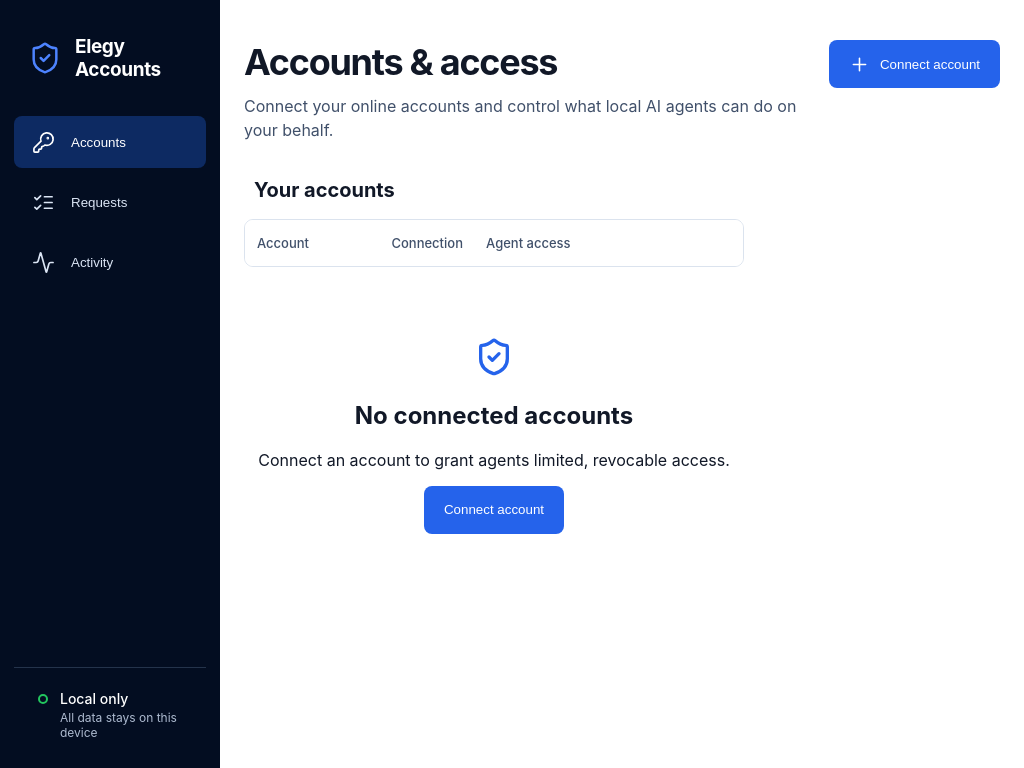
Test case: Account Center › renders an arbitrary provider supplied by the broker registry
Step 1. Click the button "Connect account" in the row of "Accounts & access" → (914,64), box top-left (829, 40), bottom-right (1000, 88)
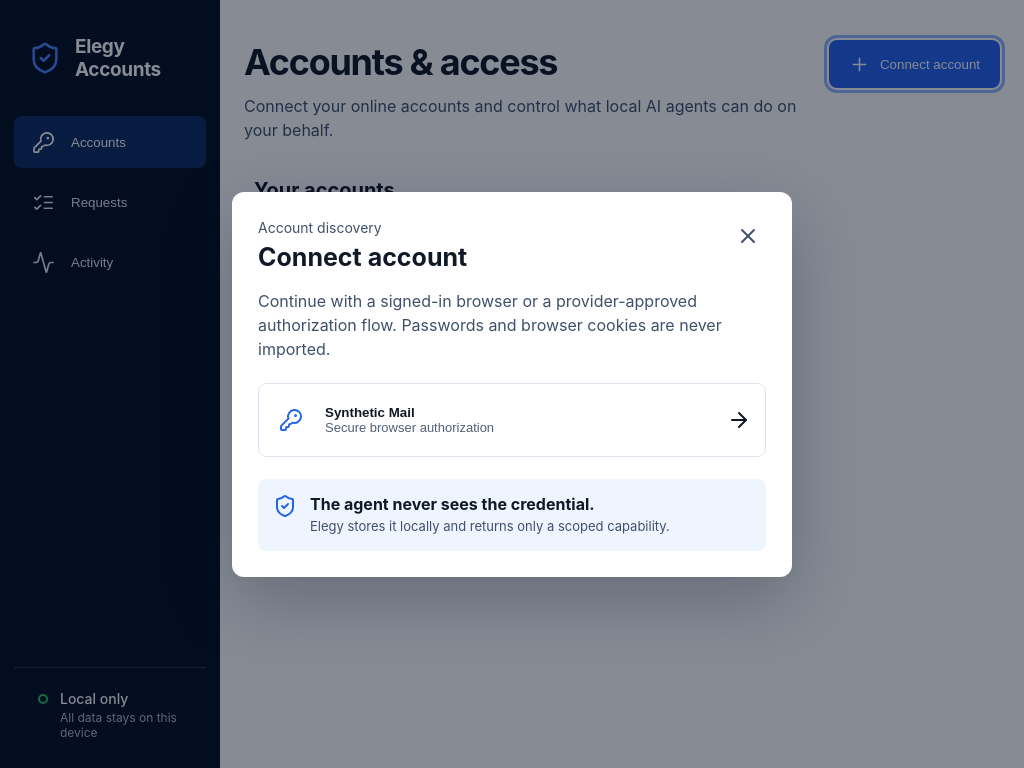
Expected: the button with aria-label "Continue with Synthetic Mail" is shown, top-left (259, 384), bottom-right (765, 456)
